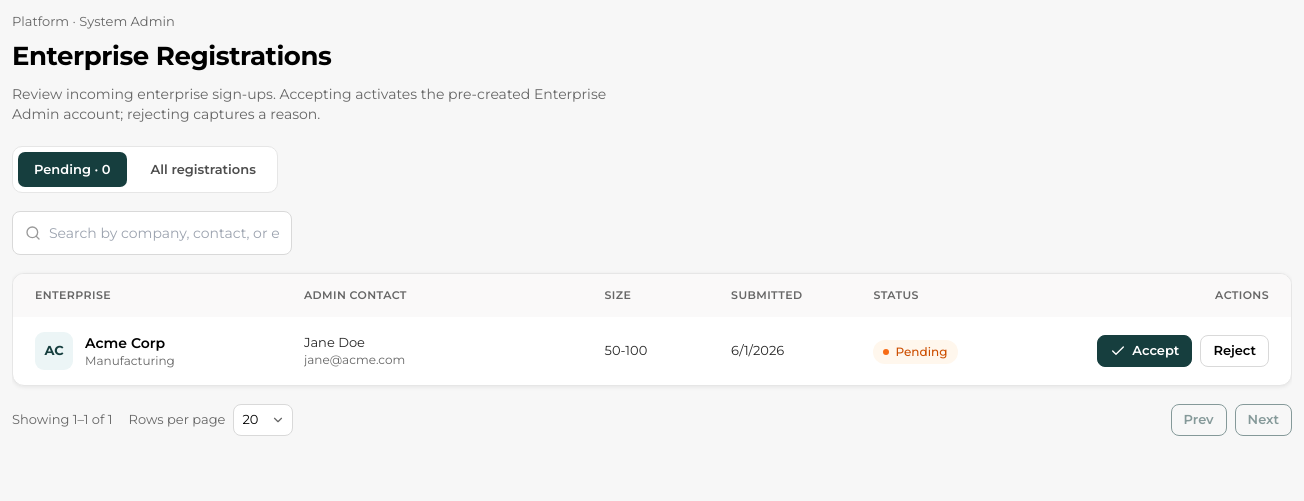
Test: Accept posts /accept and reloads the list
The width and height of the screenshot is (1304, 501).
Check: the text "Acme Corp" is shown, box [85, 332, 175, 352]
Click the button "Accept" at (1145, 350), box [1097, 334, 1192, 366]
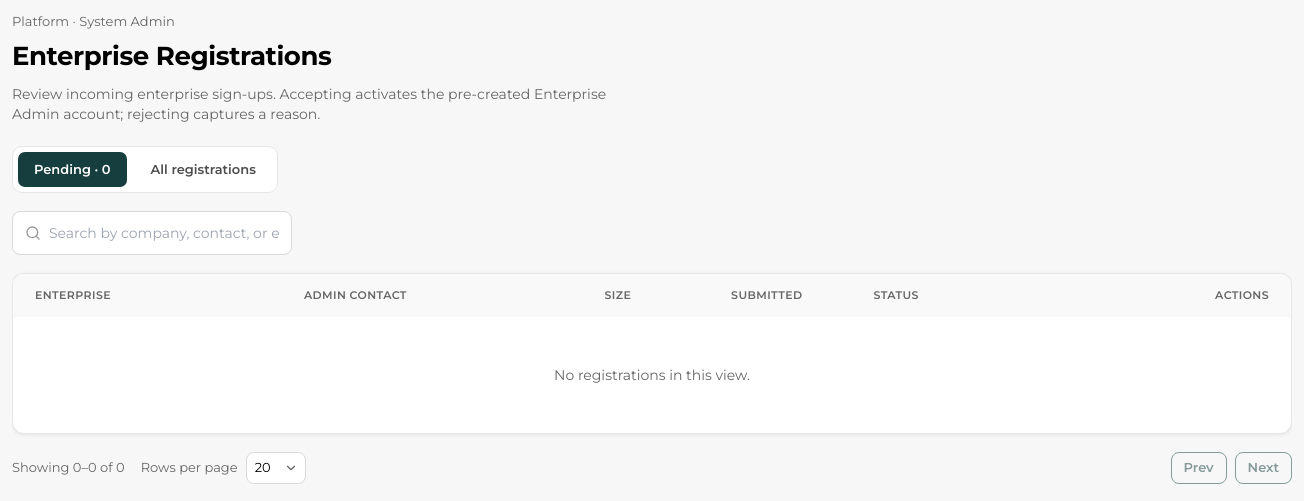
Check: the text "No registrations in this view." is shown, box [554, 366, 750, 384]
